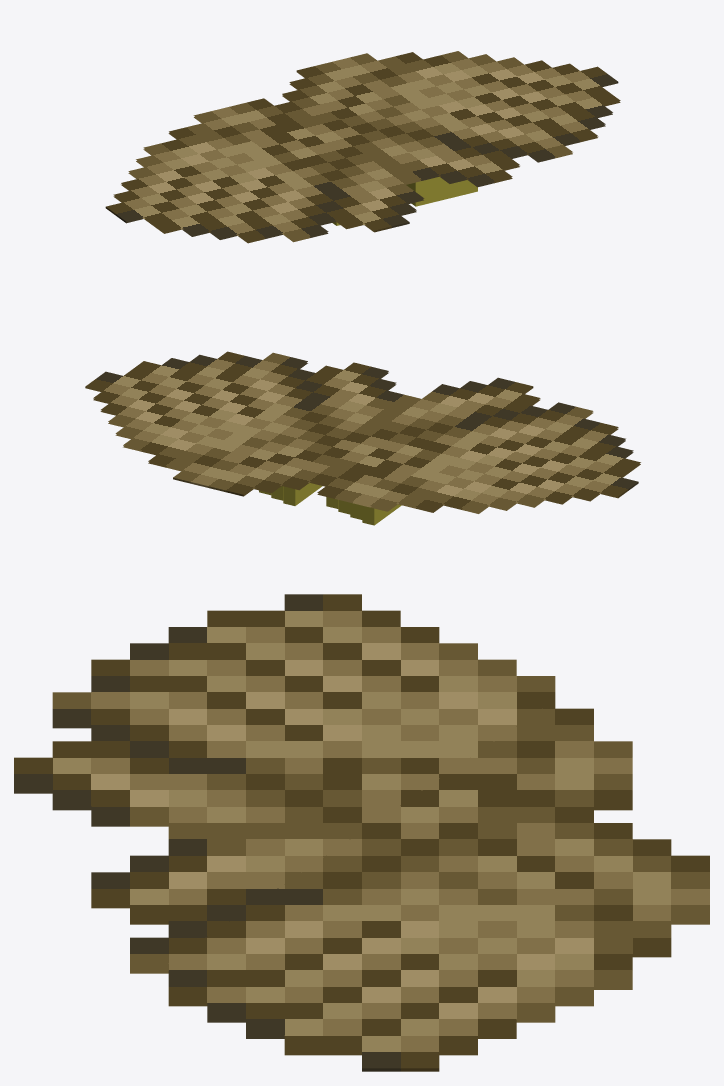
File: CMU3DReduxCMHandsInsulated.glb
The picture shows the model from 3 angles, top to bottom: view 1: azimuth 30°, elevation 25°; view 2: azimuth 150°, elevation 25°; view 3: azimuth 270°, elevation 25°; orthographic projection. The views are drawn at different scales.
Visible parts, largest first — view 1: source upper face, glove palm; view 2: source upper face, glove finger (×2); view 3: source upper face.
Boxes of the visible parts, x1=… form: source upper face: x1=105, y1=51, x2=620, y2=243; glove palm: x1=406, y1=177, x2=477, y2=206; source upper face: x1=85, y1=351, x2=640, y2=513; glove finger (×2): x1=283, y1=483, x2=401, y2=525; source upper face: x1=14, y1=594, x2=709, y2=1071.
Bounding box in the file's own units: 0.9062 × 0.058 × 0.5625.
2 materials, 1 textured.
